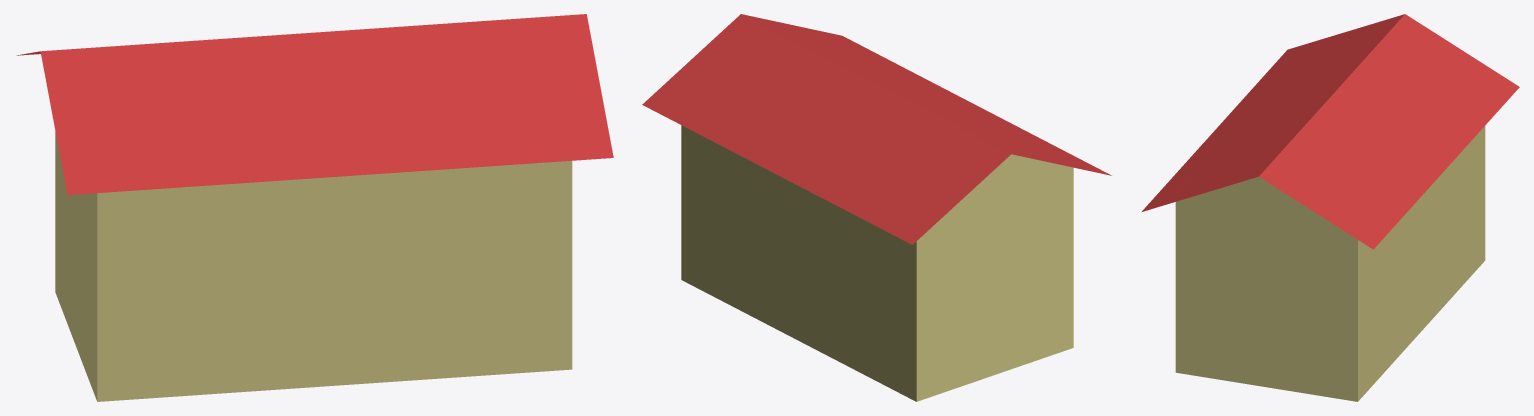
3 views of the same model, side by side, from view 1: azimuth 30°, elevation 25°; view 2: azimuth 150°, elevation 25°; view 3: azimuth 270°, elevation 25° (orthographic). The views are drawn at different scales.
Bounding box in the file's own units: 13.24 × 10.6 × 6.84.
